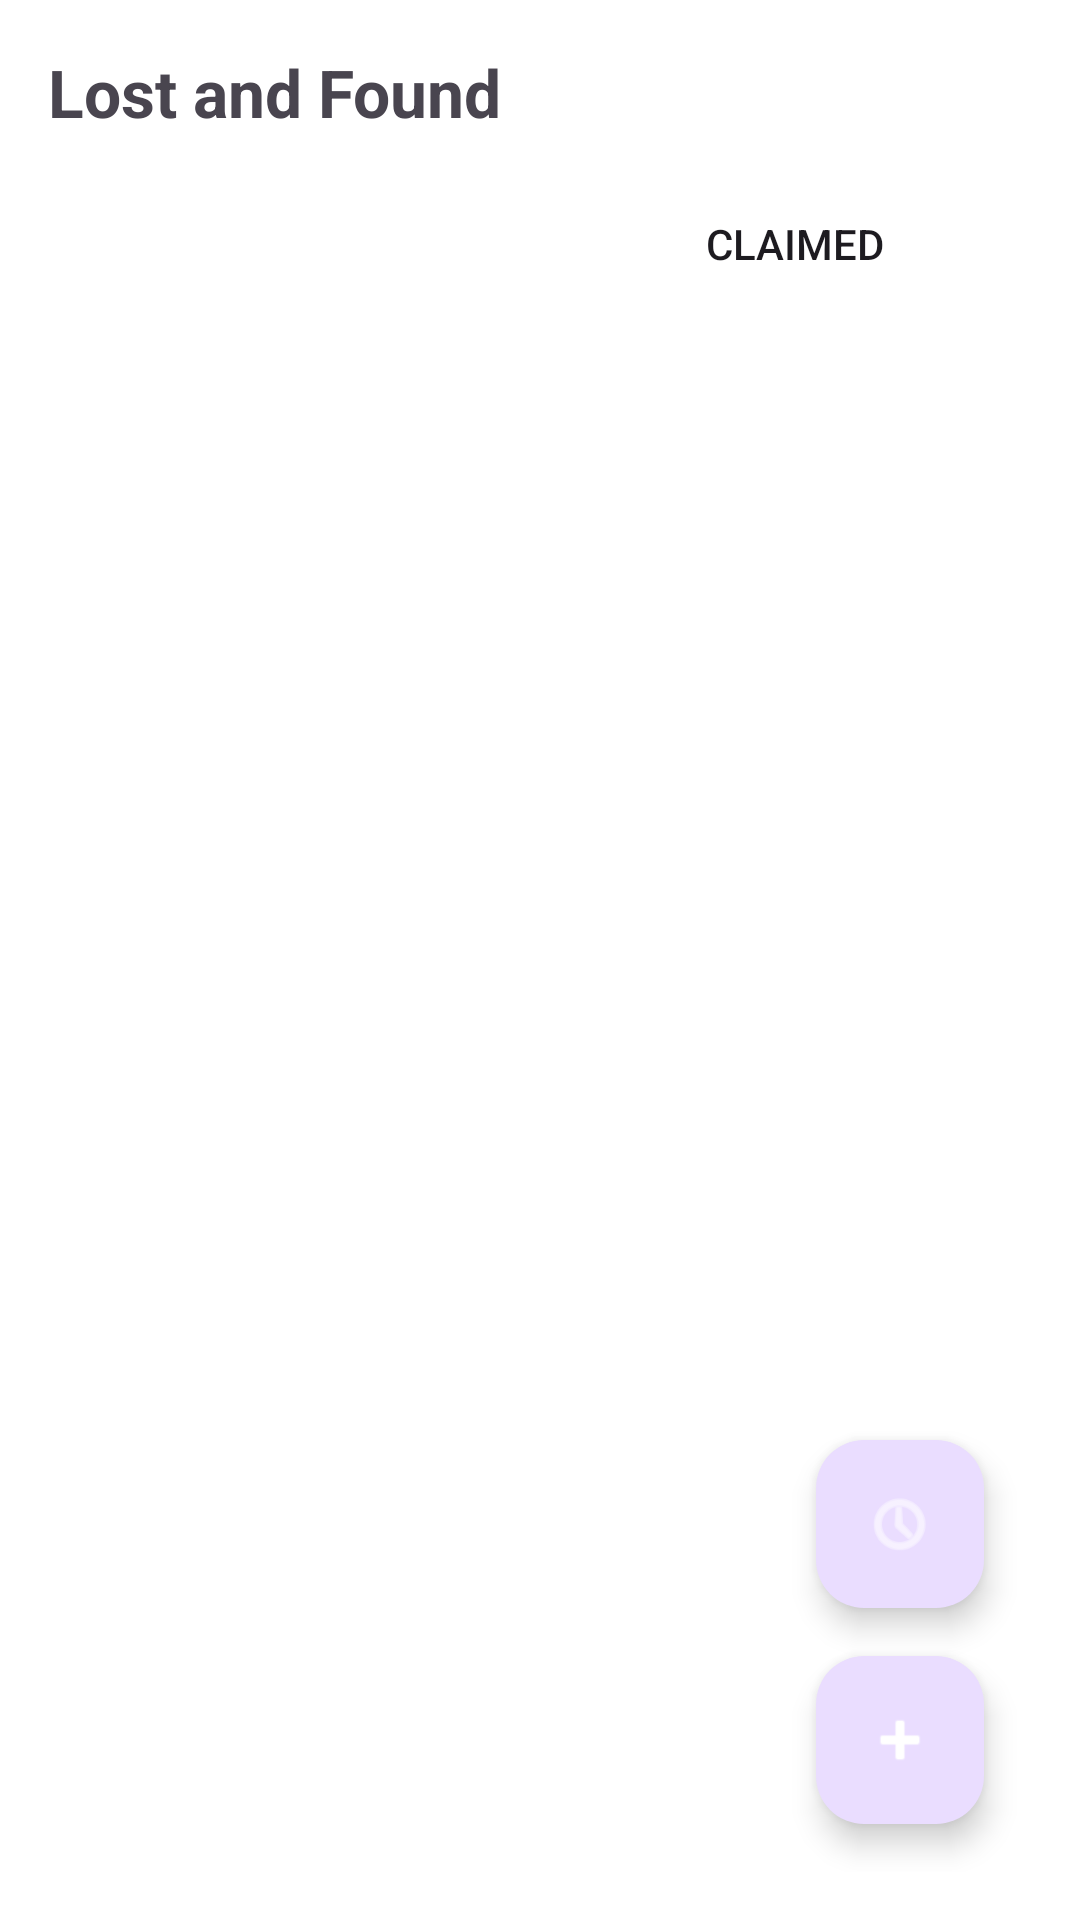

Icon click points for this 1080px x 1920px phone screenshot, format [x,y]:
Add report: [900,1740]
Report History: [900,1524]
